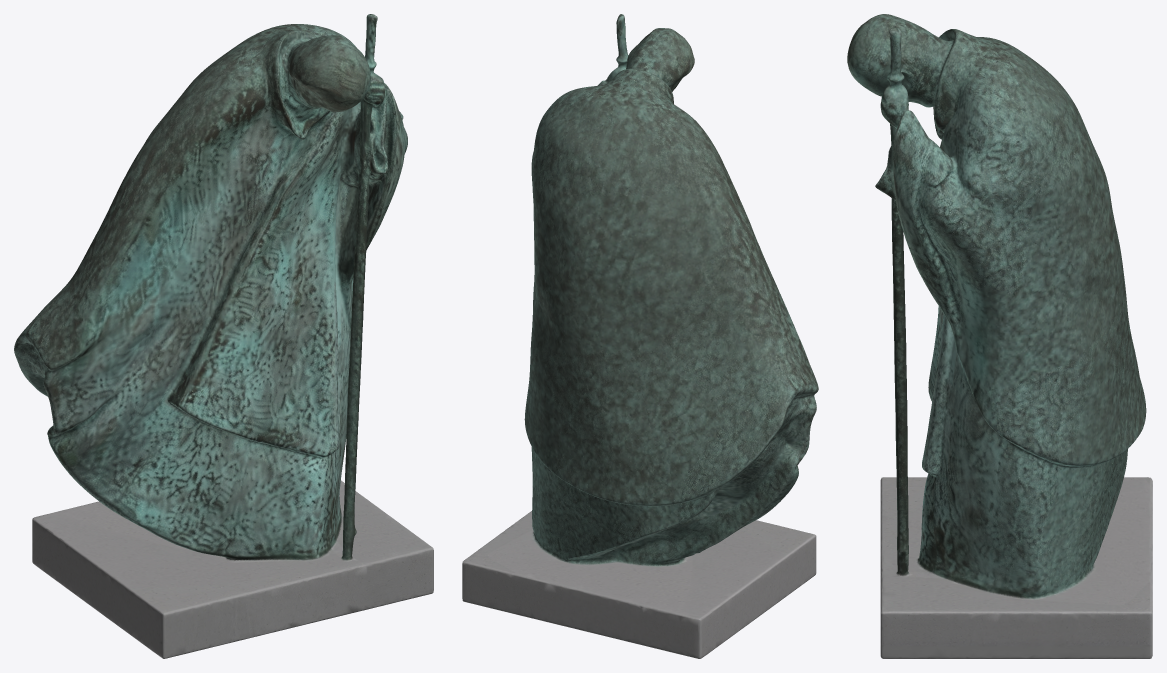
Rendered from Meshy_AI_The_Weary_Pilgrim_0826135656_texture.fbx.
The picture shows the model from 3 angles, left to right: view 1: azimuth 30°, elevation 25°; view 2: azimuth 150°, elevation 25°; view 3: azimuth 270°, elevation 25°; orthographic projection. The views are drawn at different scales.
Visible parts, largest first — view 1: mesh_node; view 2: mesh_node; view 3: mesh_node.
Boxes of the visible parts, box(x1,y1,x2,y2) form: mesh_node: box(14, 14, 433, 658); mesh_node: box(462, 14, 818, 658); mesh_node: box(847, 14, 1152, 658).
Size of the model in its own units: 113 by 190 by 87.01.
Materials: 1 (1 with a texture image).
